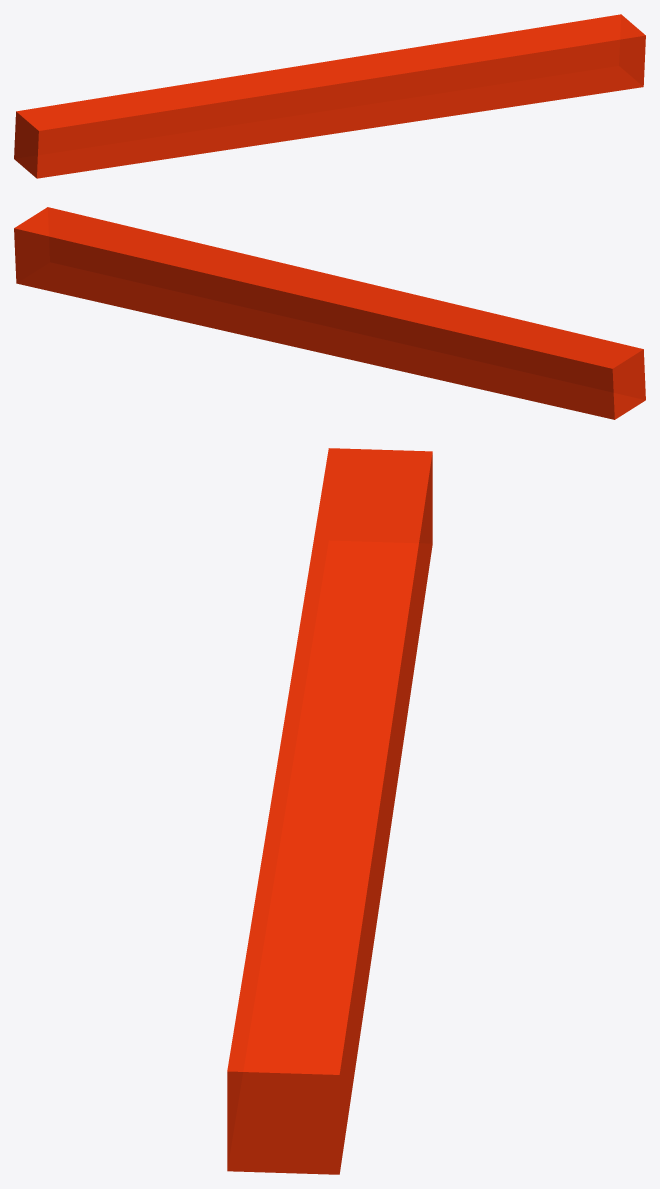
File: Event_420107950_EErechit_62.fbx
3 renders of one model, top to bottom at view 1: azimuth 30°, elevation 25°; view 2: azimuth 150°, elevation 25°; view 3: azimuth 270°, elevation 25°, orthographic. The views are drawn at different scales.
Visible parts, largest first — view 1: Model; view 2: Model; view 3: Model.
Boxes of the visible parts, <box> form: Model: <box>14,14,645,178</box>; Model: <box>14,207,645,419</box>; Model: <box>227,448,432,1174</box>.
Size of the model in its own units: 0.9443 by 0.1213 by 0.1432.
